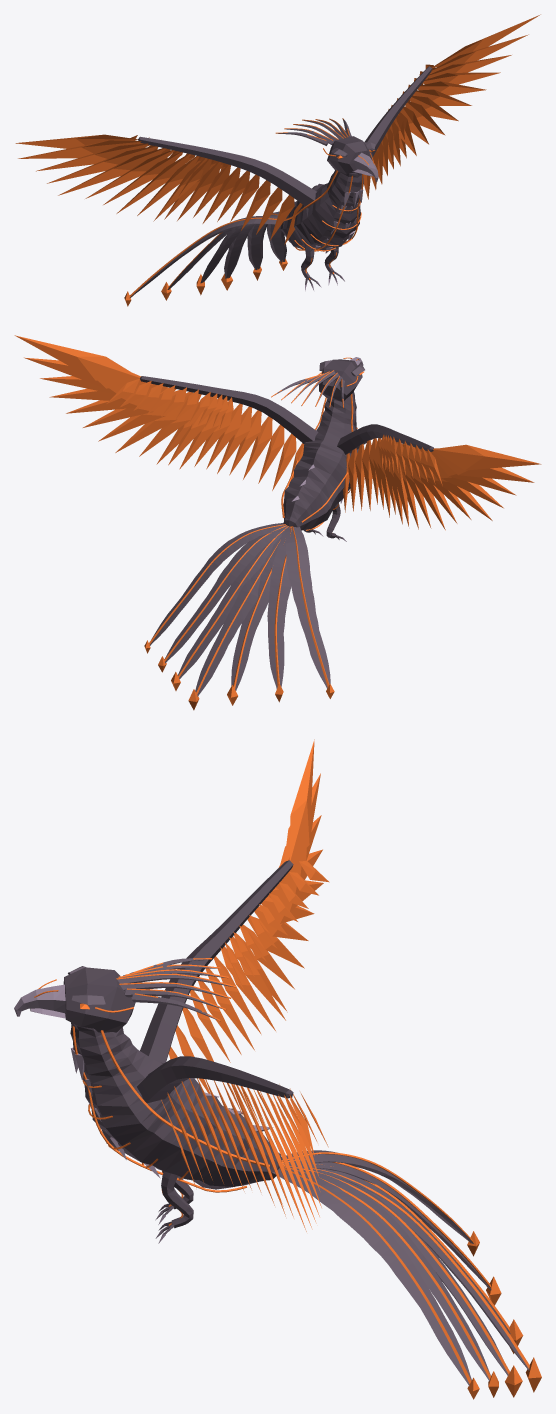
File: Fenix.obj
The picture shows the model from 3 angles, top to bottom: view 1: azimuth 30°, elevation 25°; view 2: azimuth 150°, elevation 25°; view 3: azimuth 270°, elevation 25°; orthographic projection. The views are drawn at different scales.
Parts seen in each view (by area): view 1: Fenix_Plumas, Fenix_Cuerpo, Fenix_Cuerpo2, Fenix_Brillo, Fenix_Hueso; view 2: Fenix_Plumas, Fenix_Cuerpo2, Fenix_Cuerpo, Fenix_Brillo; view 3: Fenix_Cuerpo, Fenix_Plumas, Fenix_Cuerpo2, Fenix_Brillo, Fenix_Hueso.
Boxes of the visible parts, left/top/right/bottom form: Fenix_Plumas: left=15, top=14, right=540, bottom=244; Fenix_Cuerpo: left=138, top=66, right=432, bottom=284; Fenix_Cuerpo2: left=130, top=119, right=375, bottom=297; Fenix_Brillo: left=124, top=118, right=374, bottom=306; Fenix_Hueso: left=294, top=152, right=378, bottom=290; Fenix_Plumas: left=14, top=335, right=541, bottom=530; Fenix_Cuerpo2: left=149, top=360, right=364, bottom=696; Fenix_Cuerpo: left=140, top=359, right=433, bottom=538; Fenix_Brillo: left=144, top=357, right=359, bottom=710; Fenix_Cuerpo: left=63, top=860, right=293, bottom=1234; Fenix_Plumas: left=161, top=739, right=329, bottom=1231; Fenix_Cuerpo2: left=68, top=958, right=529, bottom=1386; Fenix_Brillo: left=34, top=958, right=541, bottom=1399; Fenix_Hueso: left=14, top=984, right=273, bottom=1243.
Bounding box in the file's own units: 7.12 × 3.43 × 3.79.
